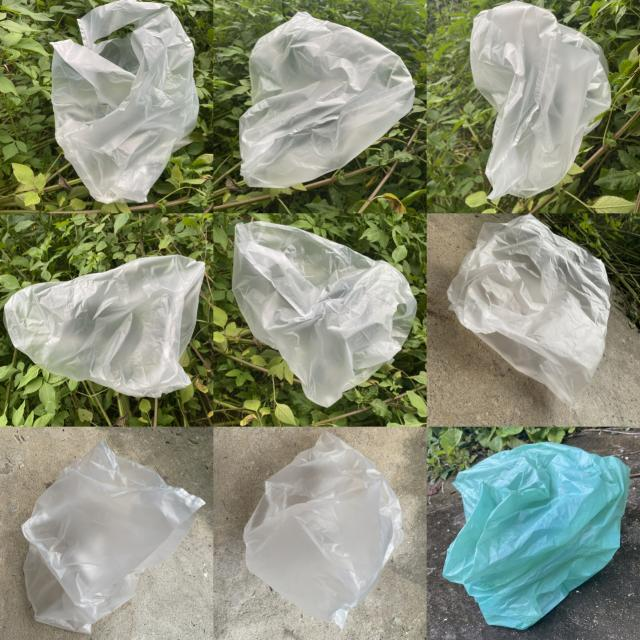Single-layer Plastic: (22, 440, 204, 633), (444, 442, 630, 629), (232, 221, 416, 406), (244, 431, 404, 629), (239, 12, 415, 188), (448, 215, 610, 405), (51, 0, 199, 204), (4, 255, 205, 398), (470, 1, 611, 200)
